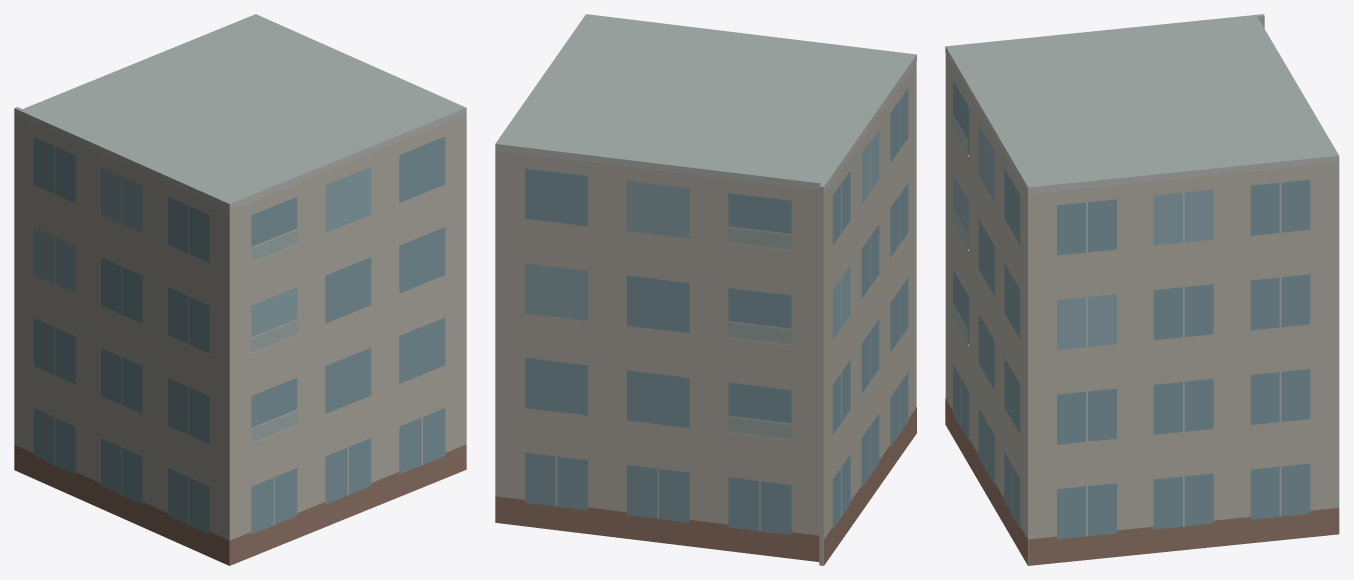
Rendered from survey-upis-32922152.glb.
3 renders of one model, left to right at view 1: azimuth 30°, elevation 25°; view 2: azimuth 150°, elevation 25°; view 3: azimuth 270°, elevation 25°, orthographic. The views are drawn at different scales.
Parts seen in each view (by area): view 1: survey-upis-32922152.tmp; view 2: survey-upis-32922152.tmp; view 3: survey-upis-32922152.tmp.
Boxes of the visible parts, box(x1,y1,x2,y2) form: survey-upis-32922152.tmp: box(14, 14, 466, 565); survey-upis-32922152.tmp: box(495, 14, 916, 565); survey-upis-32922152.tmp: box(945, 14, 1339, 565).
Size of the model in its own units: 13.28 by 13.5 by 12.74.
